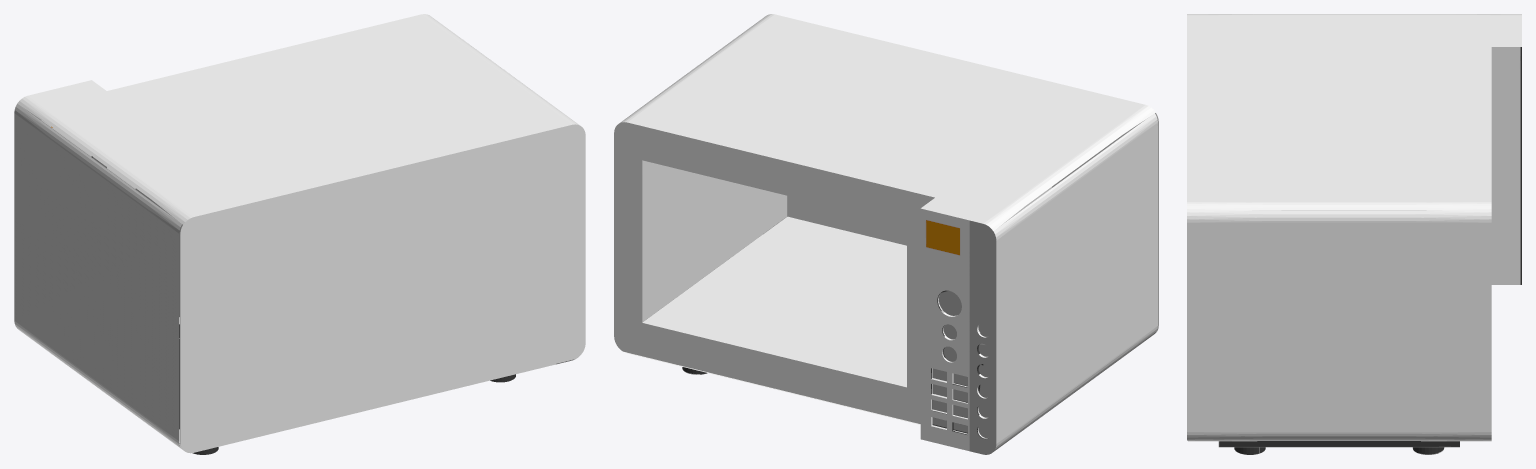
File: microwave.dae
3 renders of one model, left to right at view 1: azimuth 30°, elevation 25°; view 2: azimuth 150°, elevation 25°; view 3: azimuth 270°, elevation 25°, orthographic. The views are drawn at different scales.
Visible parts, largest first — view 1: Microwavebody; view 2: Microwavebody; view 3: Microwavebody.
Boxes of the visible parts, x1,y1,x2,y2 form: Microwavebody: (14,14,585,454); Microwavebody: (614,14,1158,454); Microwavebody: (1187,14,1521,454).
Size of the model in its own units: 0.45 by 0.319 by 0.28.
1 material, 1 textured.
